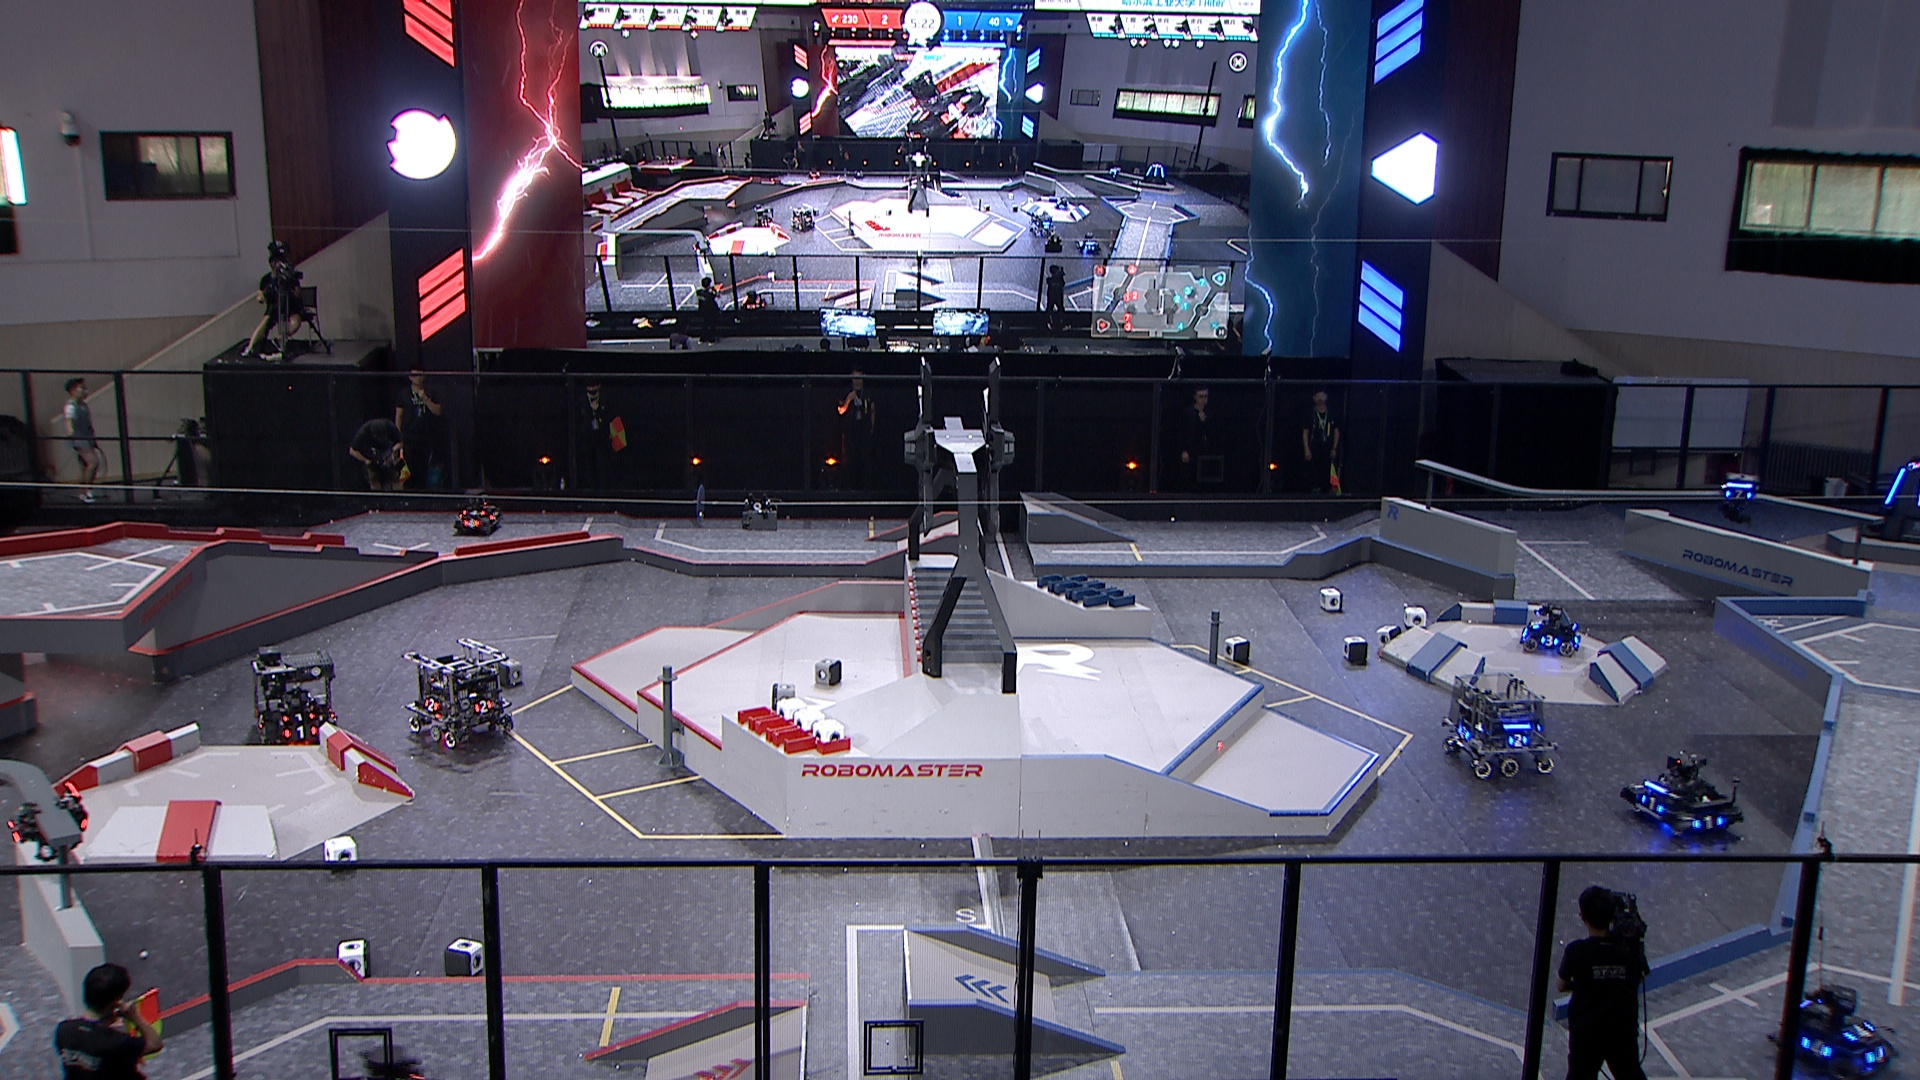armor: (1799, 1035, 1836, 1062), (1883, 465, 1905, 505), (1840, 1021, 1875, 1044), (1640, 793, 1667, 818), (1695, 814, 1727, 832), (282, 727, 320, 741), (1865, 1044, 1887, 1067), (7, 822, 26, 845), (281, 711, 318, 723), (472, 698, 495, 716), (1509, 733, 1531, 752), (1724, 489, 1753, 502), (423, 695, 442, 713), (1456, 725, 1474, 742), (1542, 633, 1560, 650), (462, 508, 487, 518), (1528, 618, 1544, 632), (462, 520, 481, 529), (257, 713, 266, 731), (487, 510, 500, 522)
base: (1859, 462, 1920, 549)
car: (1768, 978, 1902, 1077), (404, 636, 516, 750), (1443, 669, 1557, 781), (1625, 752, 1742, 840), (252, 644, 339, 746), (1518, 604, 1582, 655), (452, 487, 500, 538)
ignore: (789, 202, 822, 233), (1029, 210, 1058, 237), (752, 200, 775, 229), (1141, 164, 1168, 187), (1073, 232, 1102, 253), (742, 290, 766, 311), (694, 233, 711, 256), (1106, 166, 1122, 182), (1058, 196, 1069, 211), (808, 166, 822, 178)
watcher: (3, 779, 91, 866), (1717, 471, 1760, 527)
